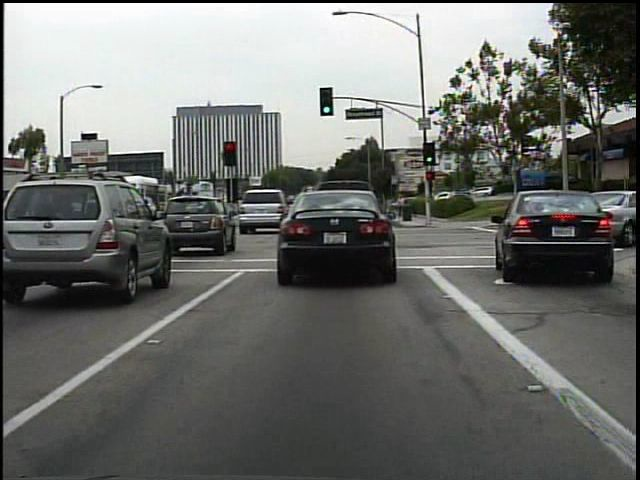person: (396, 195, 406, 220)
